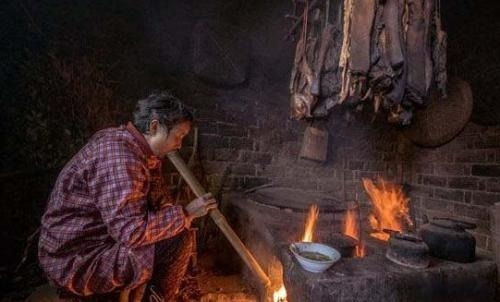fire: (360, 172, 413, 235), (298, 202, 319, 243), (269, 282, 289, 301)
